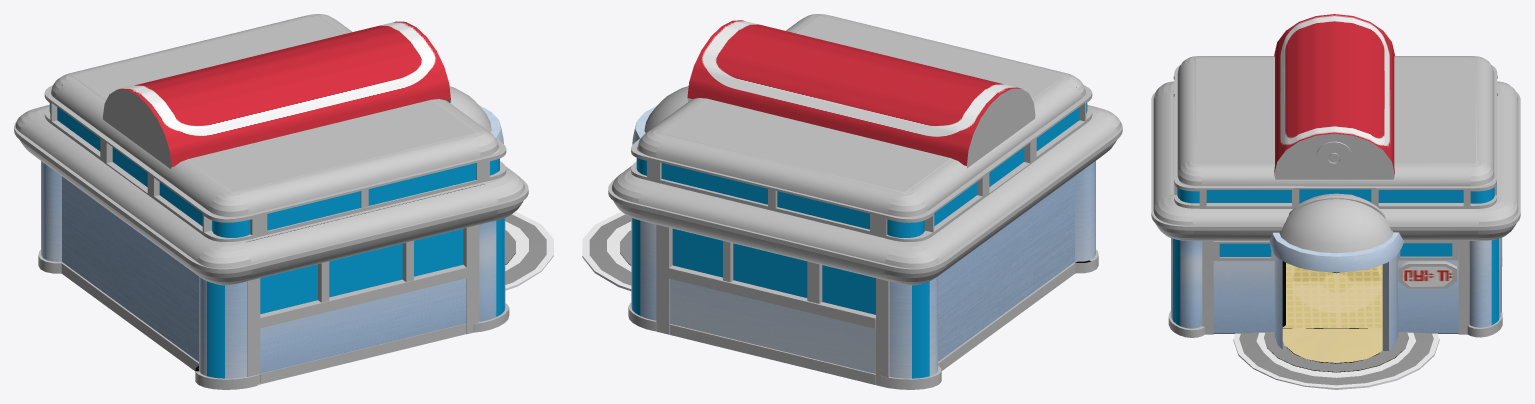
The model's file is CentroPokemonFinalT.obj.
3 views of the same model, side by side, from view 1: azimuth 30°, elevation 25°; view 2: azimuth 150°, elevation 25°; view 3: azimuth 270°, elevation 25° (orthographic). The views are drawn at different scales.
Visible parts, largest first — view 1: polySurface47 polySurface43 polySurface38 polySurface36 pasted__; view 2: polySurface47 polySurface43 polySurface38 polySurface36 pasted__; view 3: polySurface47 polySurface43 polySurface38 polySurface36 pasted__.
Part boxes in pixels (x1,y1,x2,y2): polySurface47 polySurface43 polySurface38 polySurface36 pasted__: [14, 14, 553, 389]; polySurface47 polySurface43 polySurface38 polySurface36 pasted__: [582, 14, 1122, 389]; polySurface47 polySurface43 polySurface38 polySurface36 pasted__: [1151, 14, 1520, 389].
Bounding box in the file's own units: 32.83 × 16.67 × 27.43.
